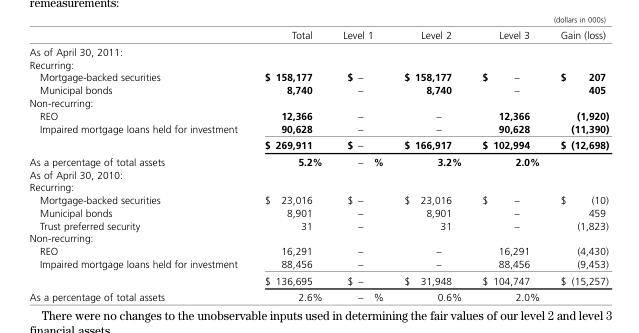table: (28, 28, 608, 302)
table column: (28, 28, 250, 302), (250, 28, 332, 302), (393, 28, 471, 302), (471, 28, 549, 302), (332, 28, 393, 302), (549, 28, 608, 302)
table column header: (28, 28, 608, 43)
table projected row header: (28, 43, 608, 57), (28, 57, 608, 70), (28, 167, 608, 180), (28, 180, 608, 193), (28, 231, 608, 244), (28, 96, 608, 108)
table row: (28, 271, 608, 288), (28, 136, 608, 152), (28, 28, 608, 43), (28, 121, 608, 136), (28, 152, 608, 167), (28, 256, 608, 271), (28, 43, 608, 57), (28, 288, 608, 302), (28, 57, 608, 70), (28, 70, 608, 83), (28, 83, 608, 96), (28, 108, 608, 121), (28, 167, 608, 180), (28, 180, 608, 193), (28, 205, 608, 218), (28, 218, 608, 231), (28, 231, 608, 244), (28, 96, 608, 108), (28, 193, 608, 205), (28, 244, 608, 256)
